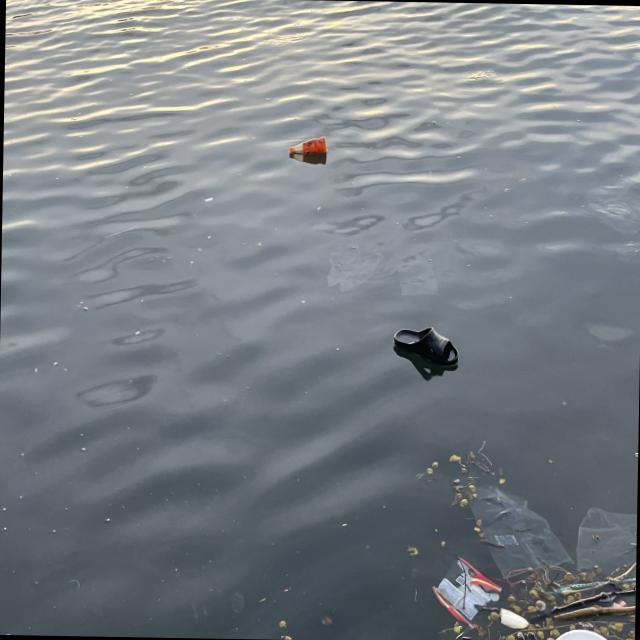foam: (550, 628, 626, 640), (501, 609, 531, 631)
plastic bottle: (290, 135, 328, 160)
